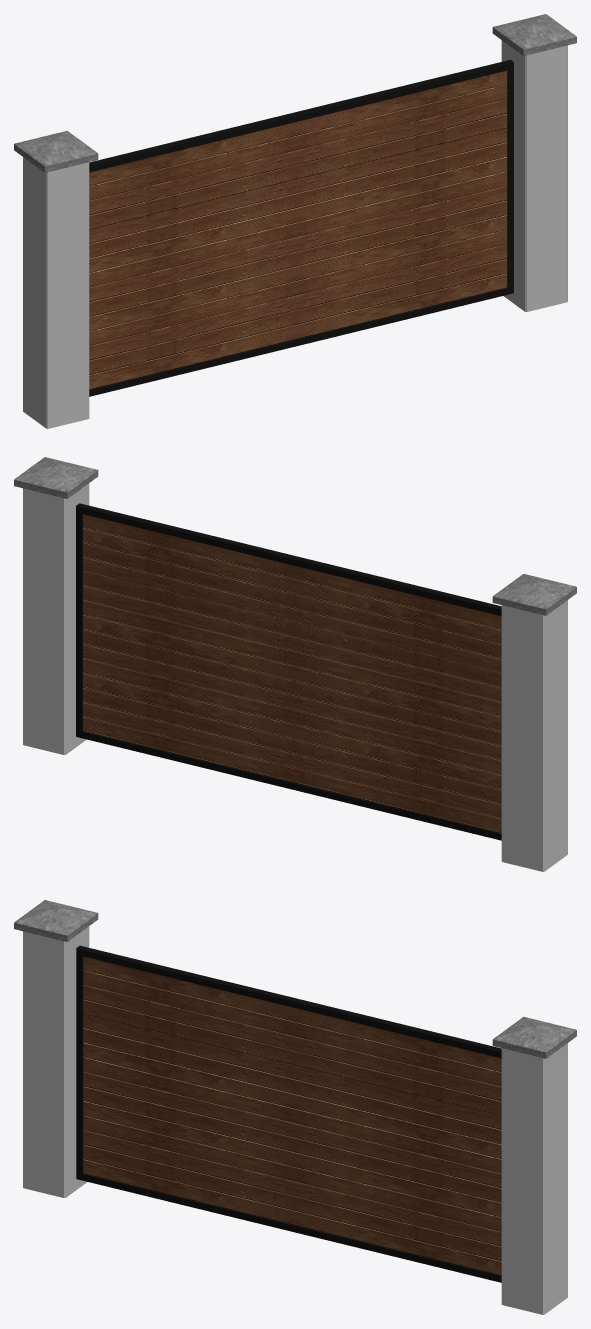
File: Fence 4.FBX
3 views of the same model, one above another, from view 1: azimuth 30°, elevation 25°; view 2: azimuth 150°, elevation 25°; view 3: azimuth 330°, elevation 25° (orthographic).
Parts seen in each view (by area): view 1: fence 4, post1, post2; view 2: fence 4, post1, post2; view 3: fence 4, post2, post1.
Part boxes in pixels (x1,y1,x2,y2): fence 4: (89,59,513,396); post1: (14,131,98,428); post2: (492,14,576,311); fence 4: (76,503,501,840); post1: (492,574,576,871); post2: (14,457,98,754); fence 4: (76,945,501,1282); post2: (492,1017,576,1314); post1: (14,900,98,1197).
Bounding box in the file's own units: 496 × 246 × 50.
